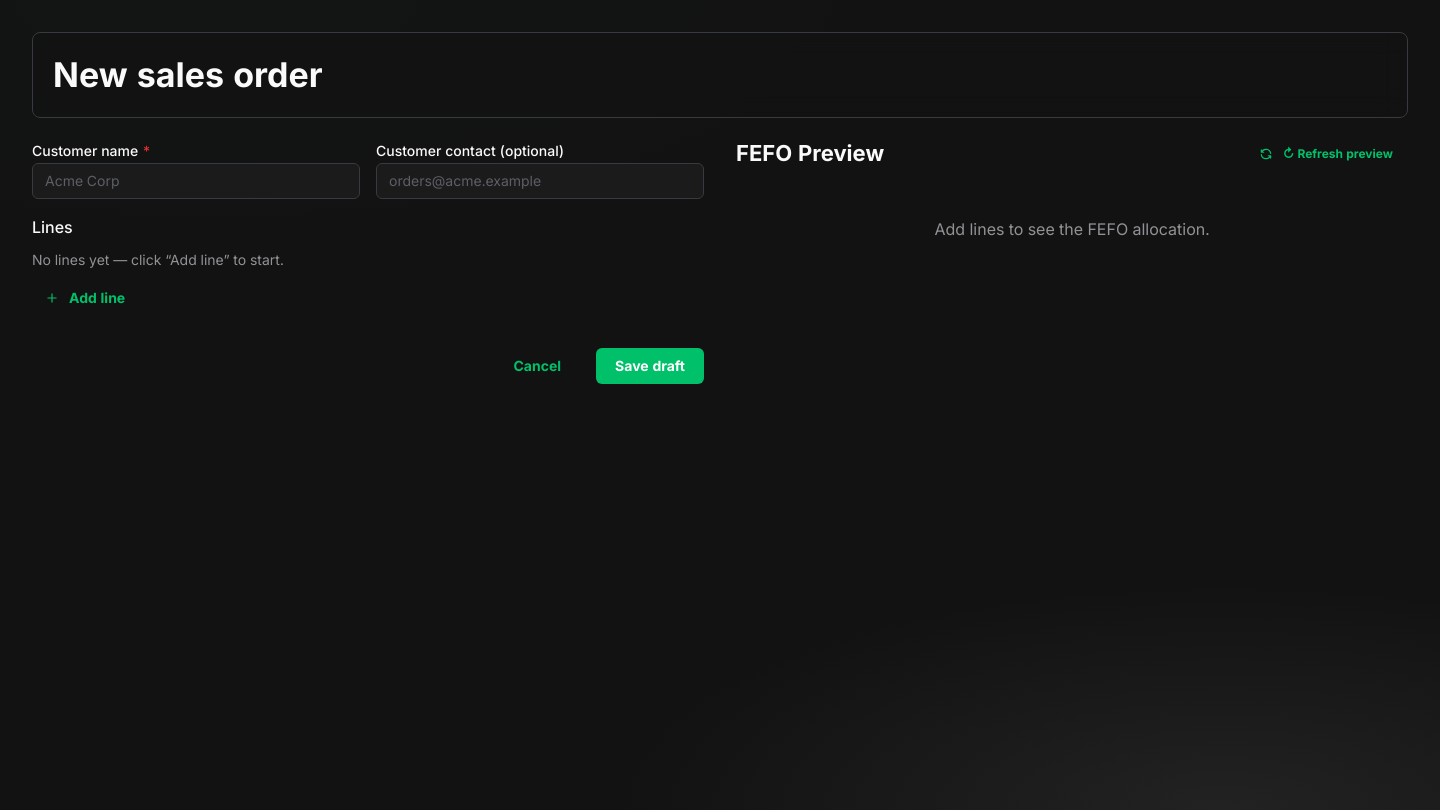
Scenario: SoDraftPage › validation: empty customer_name blocks submit
Expected: the button "Save draft" is shown, 596,348 -> 704,384
Click the button "Add line": (88, 298) 32,280 -> 144,316
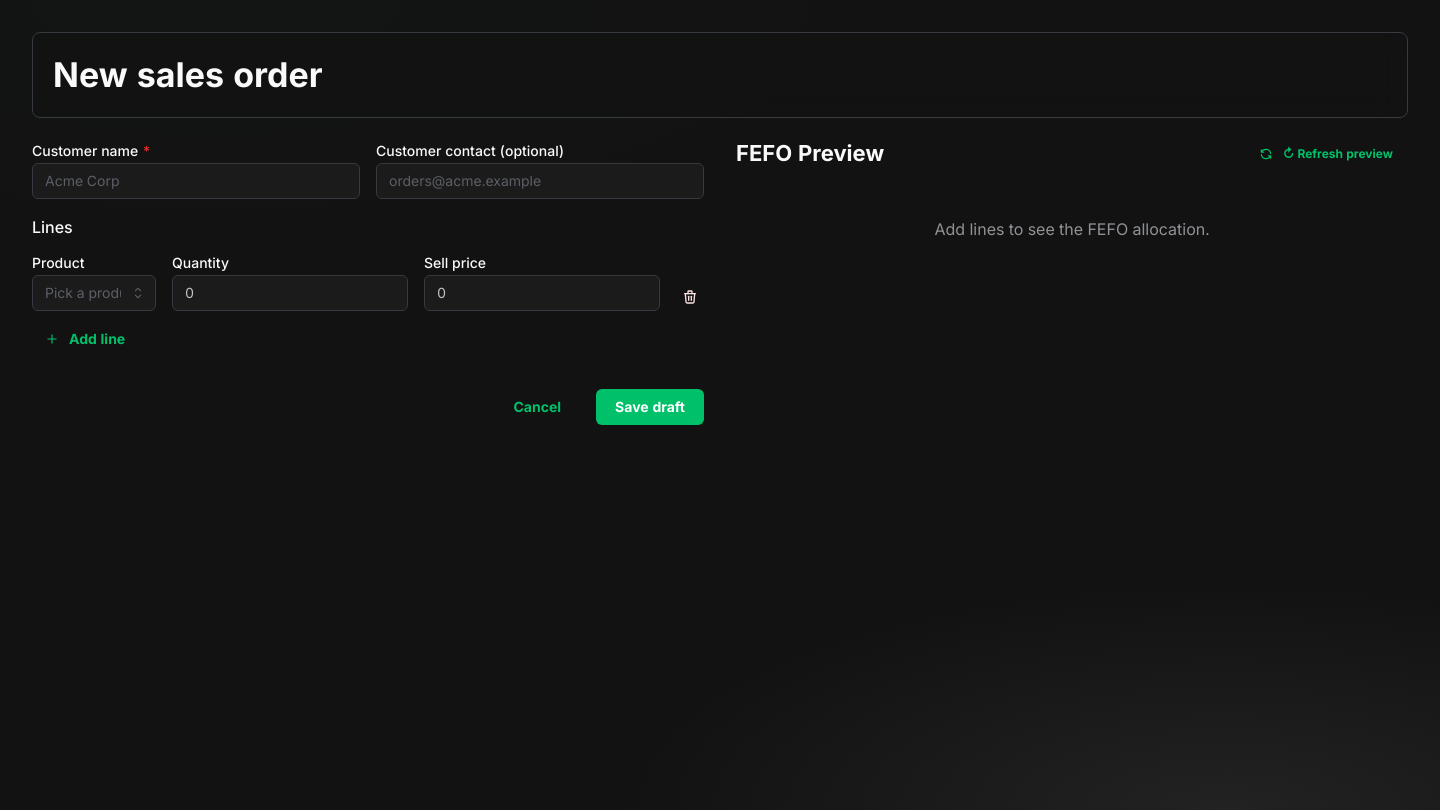
Submit the form with id "so-draft-form", box 32,138 -> 704,425
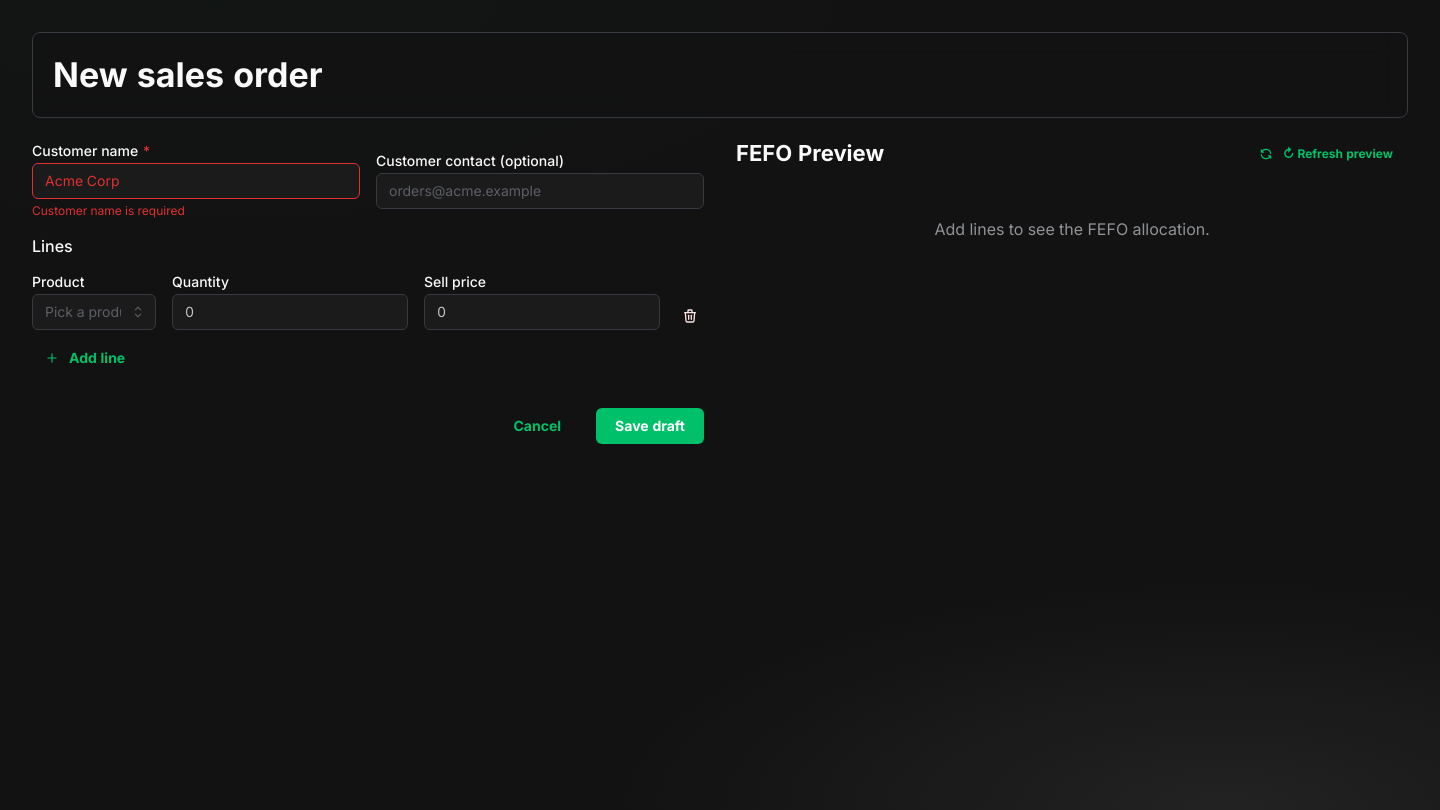
Expected: the text "Customer name is required" is shown, 32,203 -> 185,218
